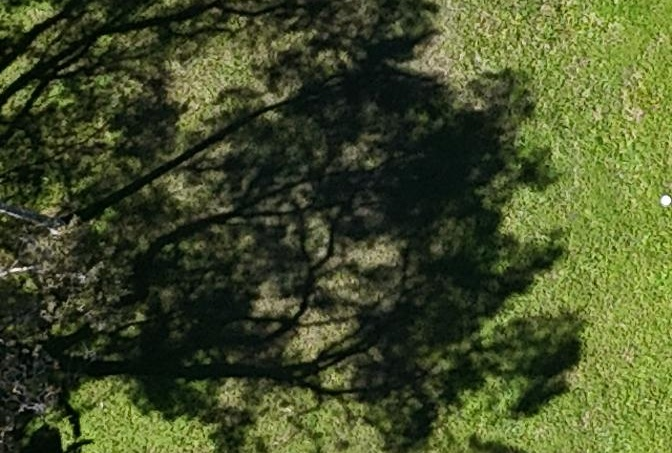bowl: (660, 195, 672, 207)
